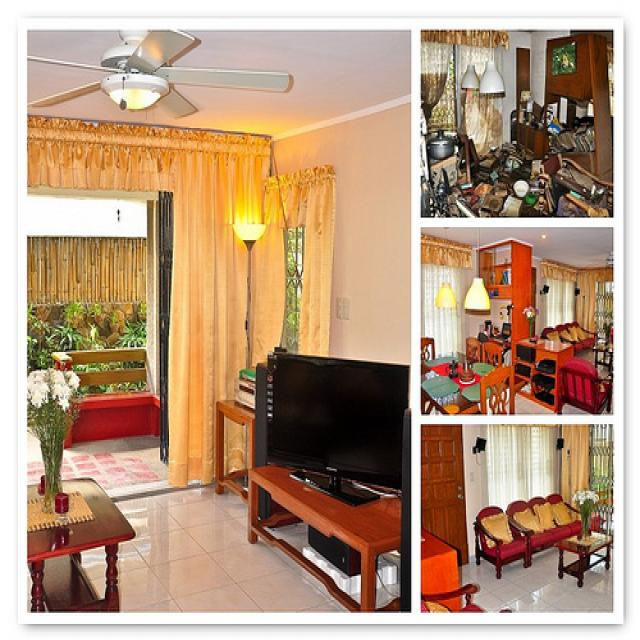chair: (473, 505, 530, 580), (506, 501, 556, 568), (556, 357, 613, 415), (421, 583, 511, 613), (528, 498, 573, 545), (480, 365, 515, 415), (545, 495, 583, 535), (482, 342, 504, 366), (466, 338, 482, 363)
dining table: (422, 352, 528, 415)
